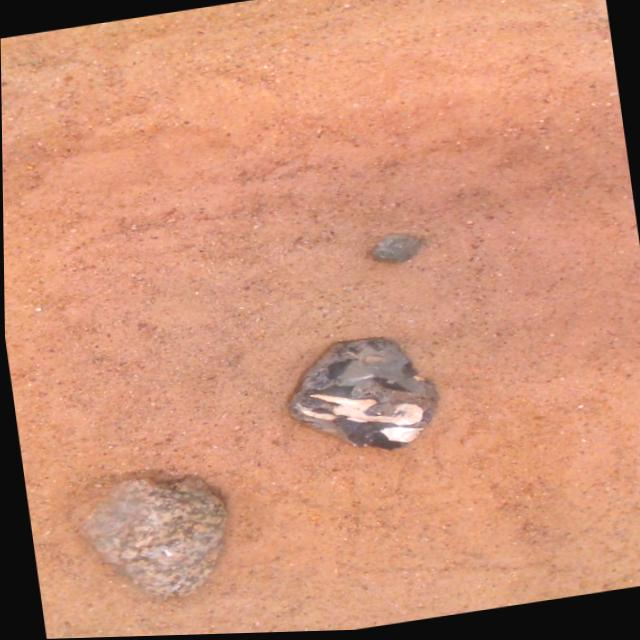rock: (80, 478, 223, 597), (288, 338, 435, 450), (369, 235, 419, 264)
